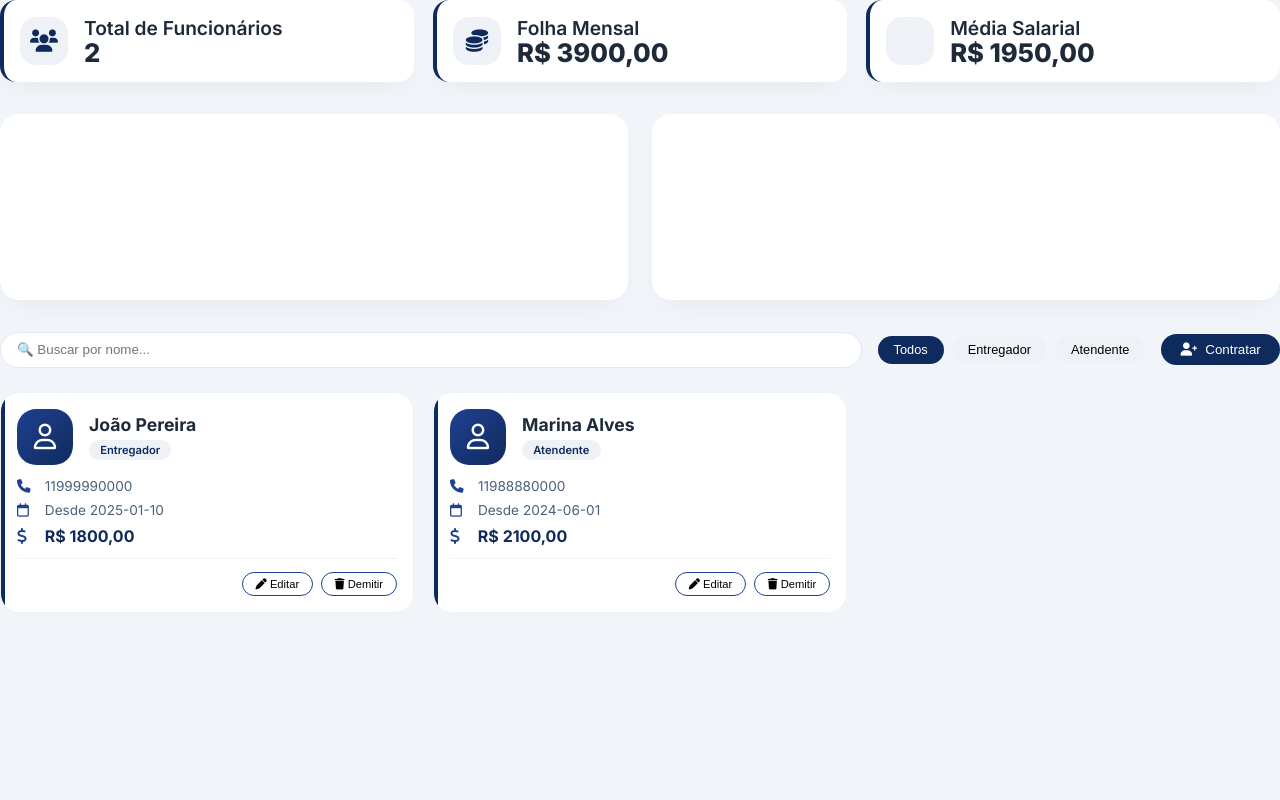
Scenario: EmployeesSection (painel admin — funcionários) › editar funcionário com sucesso: atualiza com a lista confirmada pelo servidor
The image size is (1280, 800).
Click the button "Editar" below "R$ 1800,00" at {"x": 277, "y": 584}, box [242, 572, 313, 596]
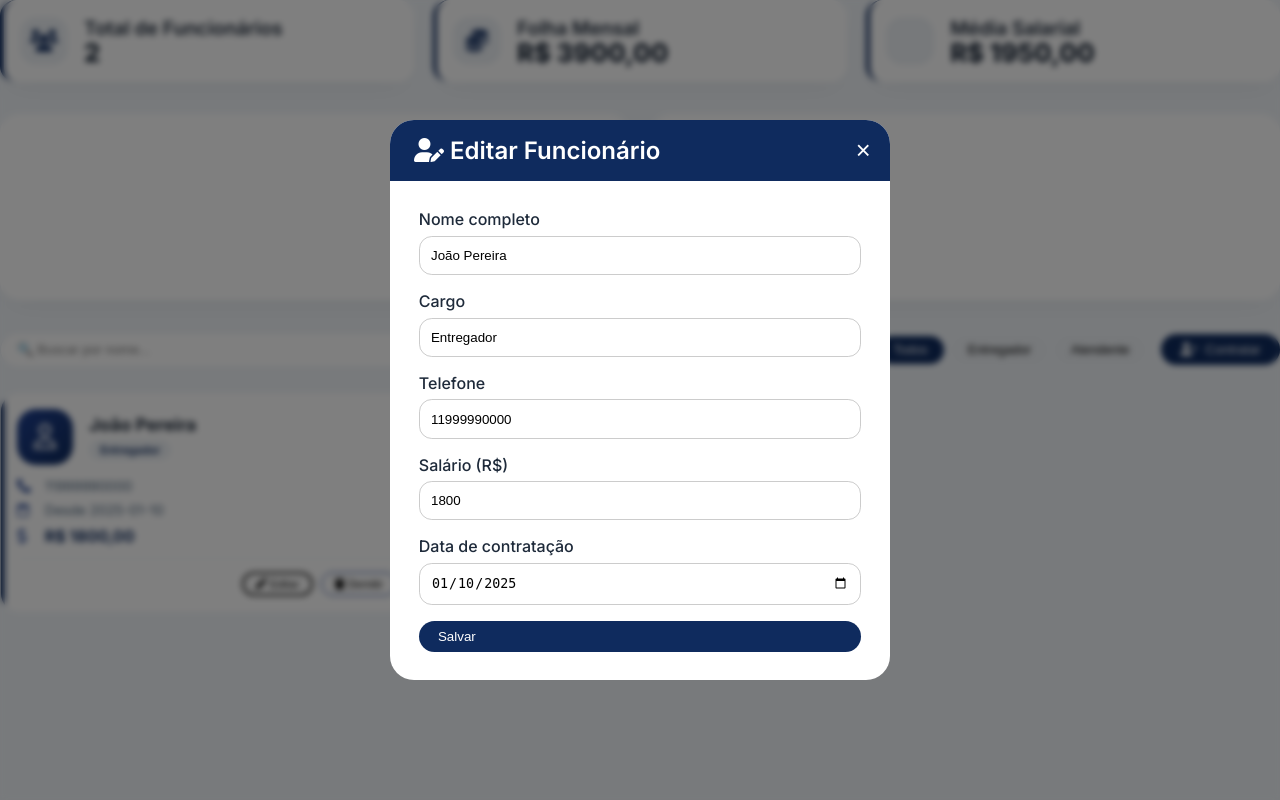
Replace the text in the field labelled "Nome completo" with "João P. Silva" at {"x": 640, "y": 256}, box [419, 236, 861, 275]
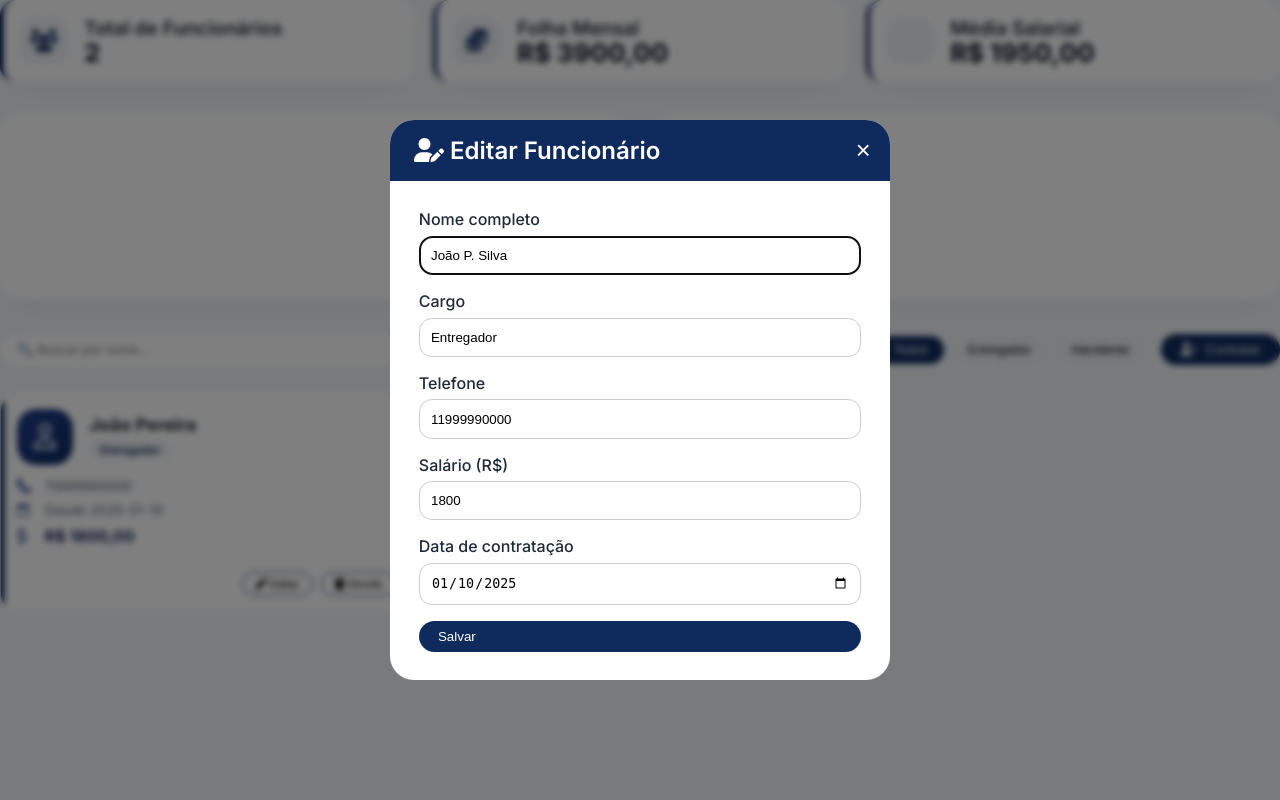
Click the button "Salvar" at {"x": 457, "y": 636}, box [419, 621, 861, 652]
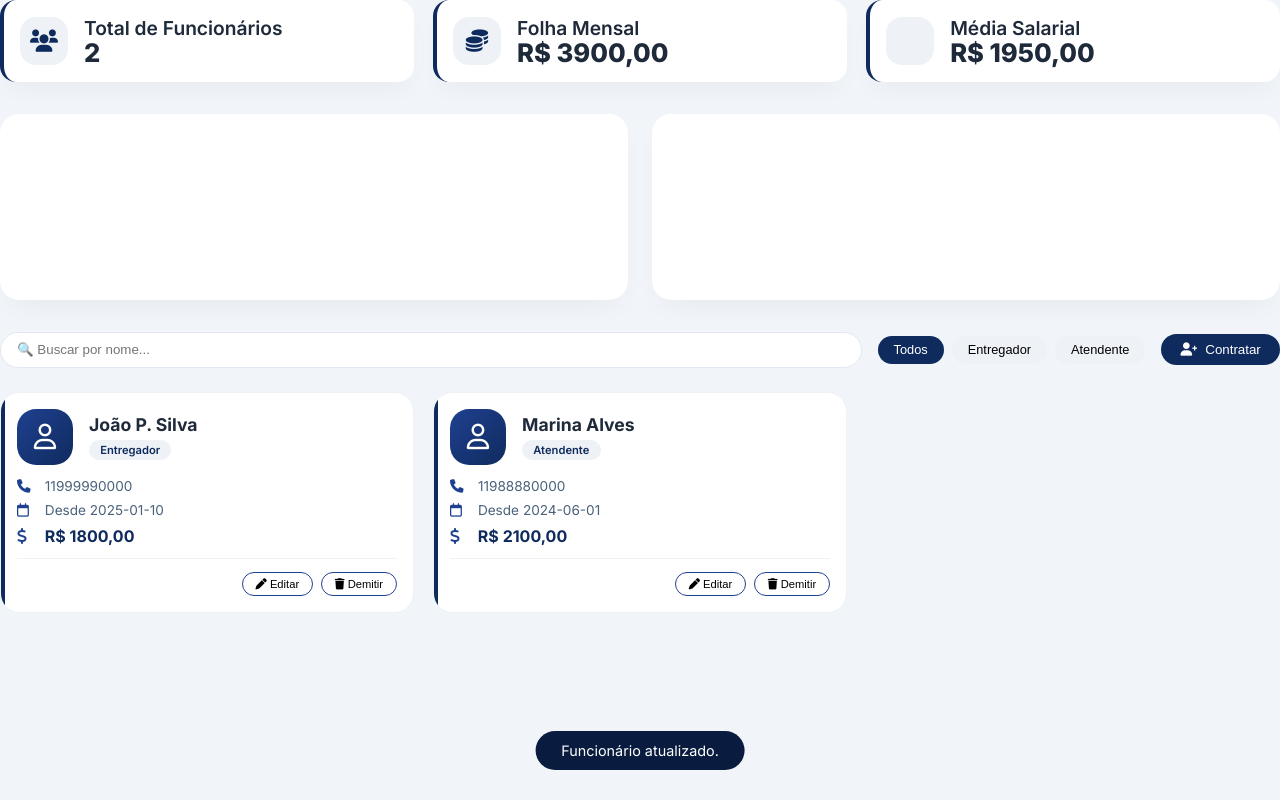
expect the text "Funcionário atualizado." is shown: met, box [536, 731, 744, 770]
expect the heading "João P. Silva" is shown: met, box [89, 414, 198, 435]
